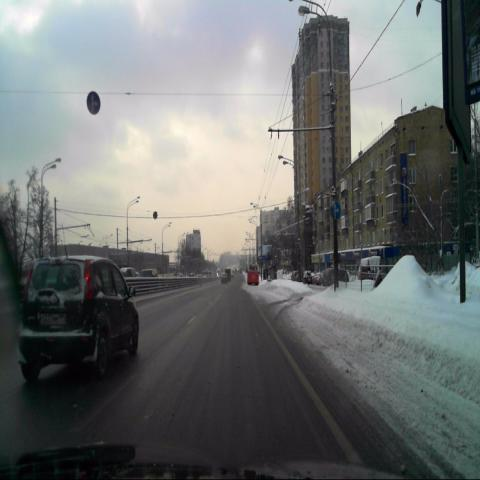4_1_4: (87, 91, 101, 115), (330, 201, 341, 220)
